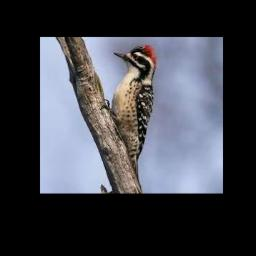Woodpecker: (101, 45, 158, 178)
